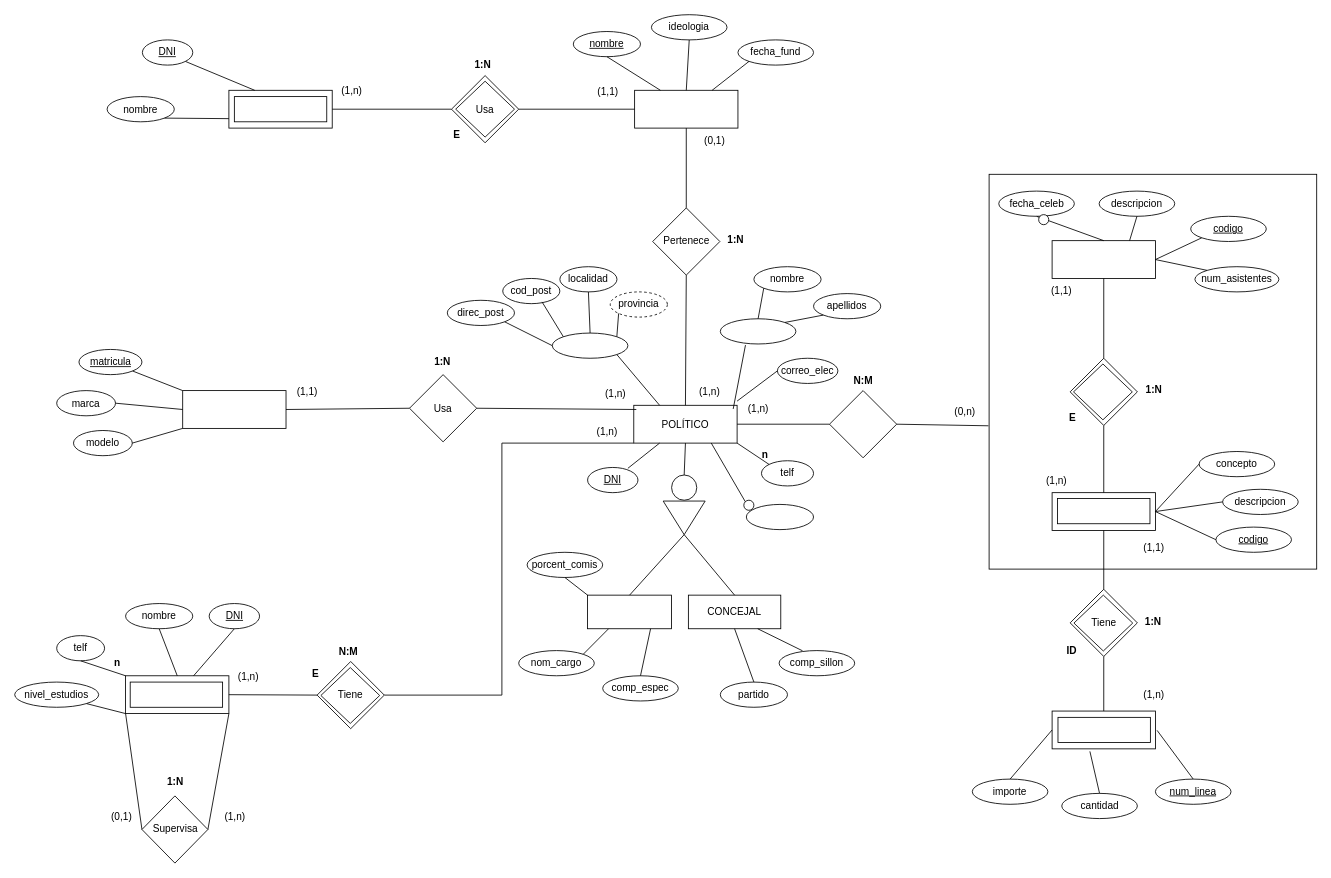
Image size: 1331x878. Some labels were removed from this diagram. Each missing label, with the box of its shape:
ASESOR: (125, 675, 229, 714)
Asiste: (829, 390, 897, 458)
BECARIO: (228, 89, 332, 128)
CARGO: (587, 594, 672, 629)
COCHE OFICIAL: (182, 390, 286, 428)
DIETA: (1051, 492, 1155, 530)
direc_compl: (551, 332, 628, 358)
Es un: (662, 500, 705, 535)
LINEA DETALLE: (1051, 710, 1155, 749)
nom_compl: (719, 318, 796, 344)
PARTIDO POLITICO: (634, 89, 738, 128)
REUNIÓN: (1051, 240, 1155, 278)
Se cobra: (1069, 357, 1137, 425)
sueldo_base: (746, 504, 814, 530)
